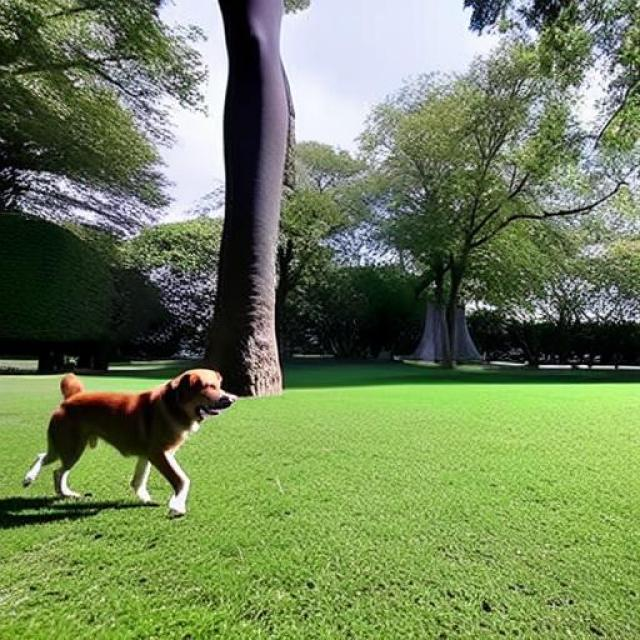Dog: (21, 368, 237, 520)
